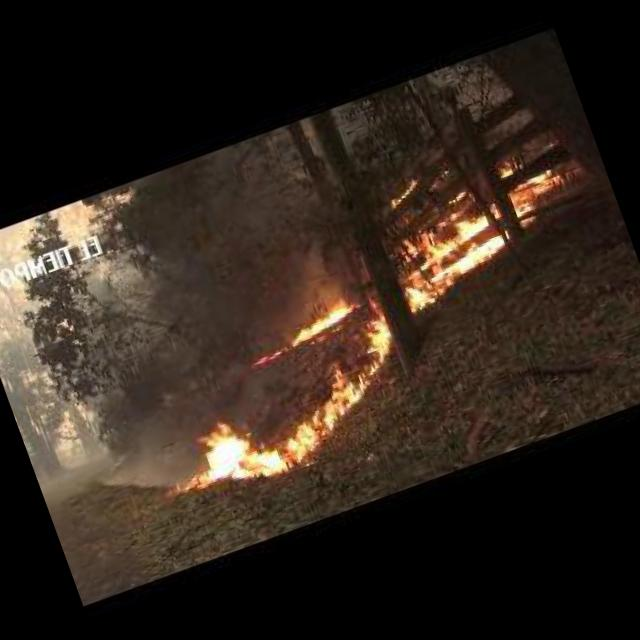fire: (172, 353, 386, 502), (383, 194, 519, 310), (346, 296, 401, 373), (284, 296, 359, 346), (506, 168, 568, 225), (386, 177, 426, 210), (249, 343, 290, 368), (493, 157, 518, 179)
